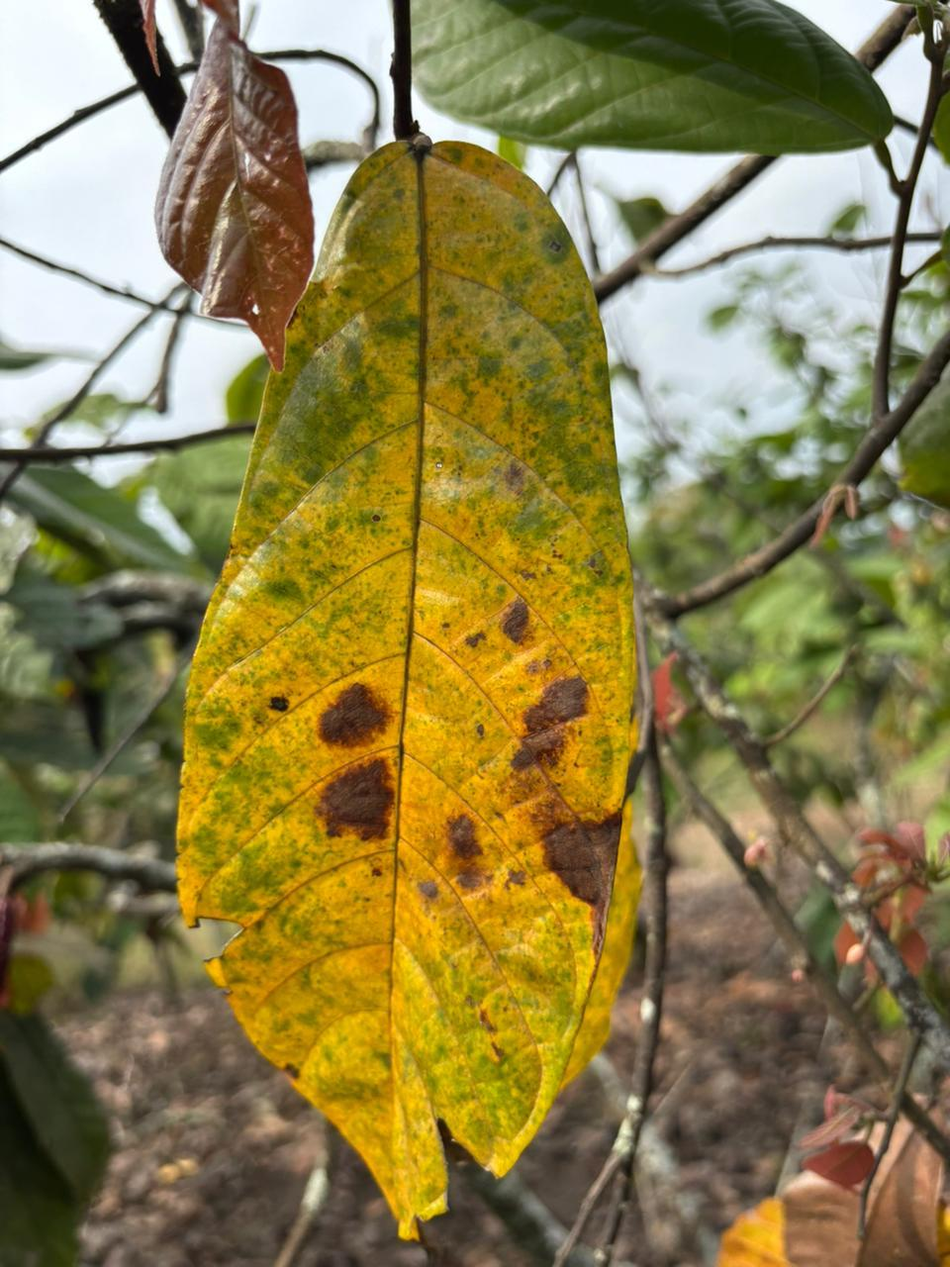deficienciia_fosforo: (177, 134, 635, 1238)
